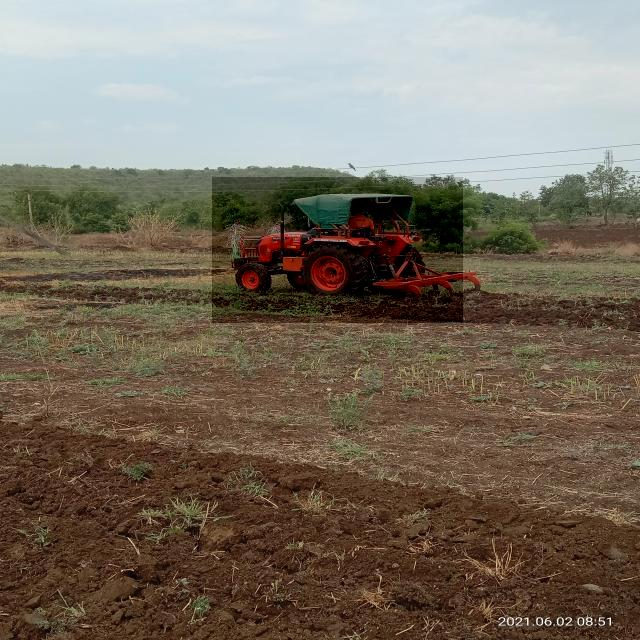Tractot: (212, 177, 463, 323)
